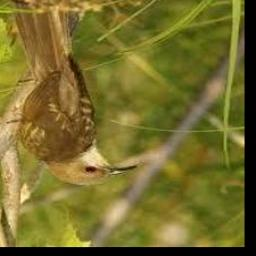Cuckoo: (7, 0, 137, 186)
